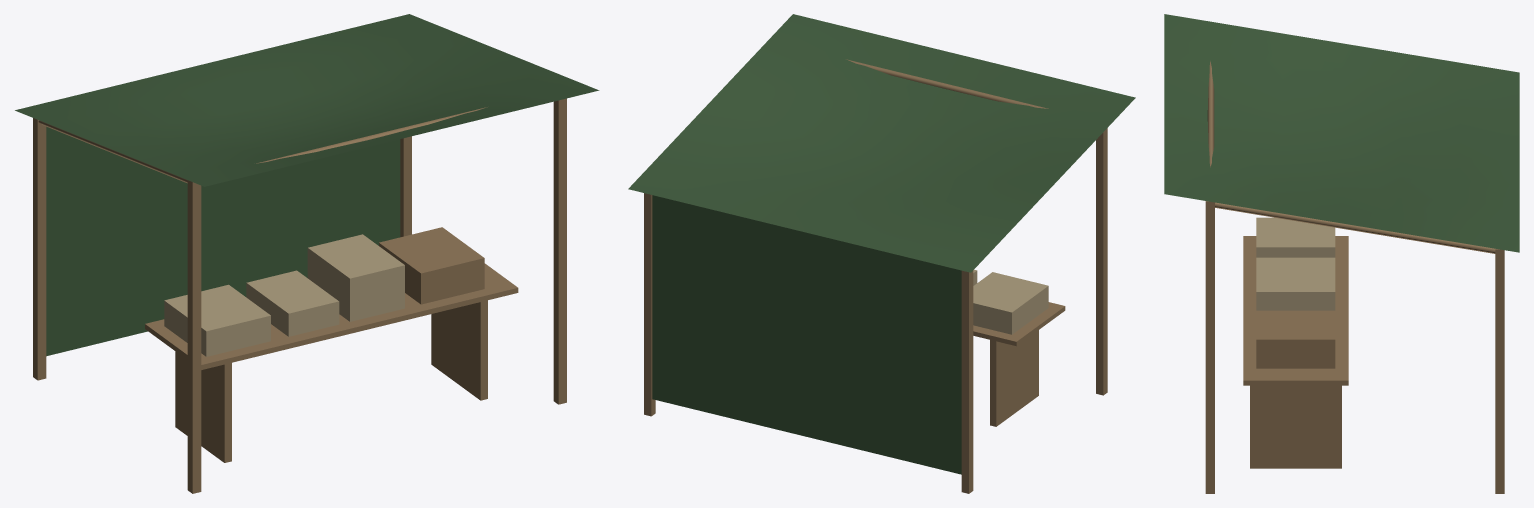
The model's file is SM_stall0.glb.
3 views of the same model, side by side, from view 1: azimuth 30°, elevation 25°; view 2: azimuth 150°, elevation 25°; view 3: azimuth 270°, elevation 25° (orthographic). The views are drawn at different scales.
Parts seen in each view (by area): view 1: SM_stall0; view 2: SM_stall0; view 3: SM_stall0.
Boxes of the visible parts, <box> form: SM_stall0: <box>15,14,599,493</box>; SM_stall0: <box>628,14,1135,493</box>; SM_stall0: <box>1164,14,1519,493</box>.
Size of the model in its own units: 3.24 by 2.55 by 2.7.
